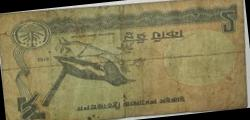2 taka: (1, 11, 247, 118)
